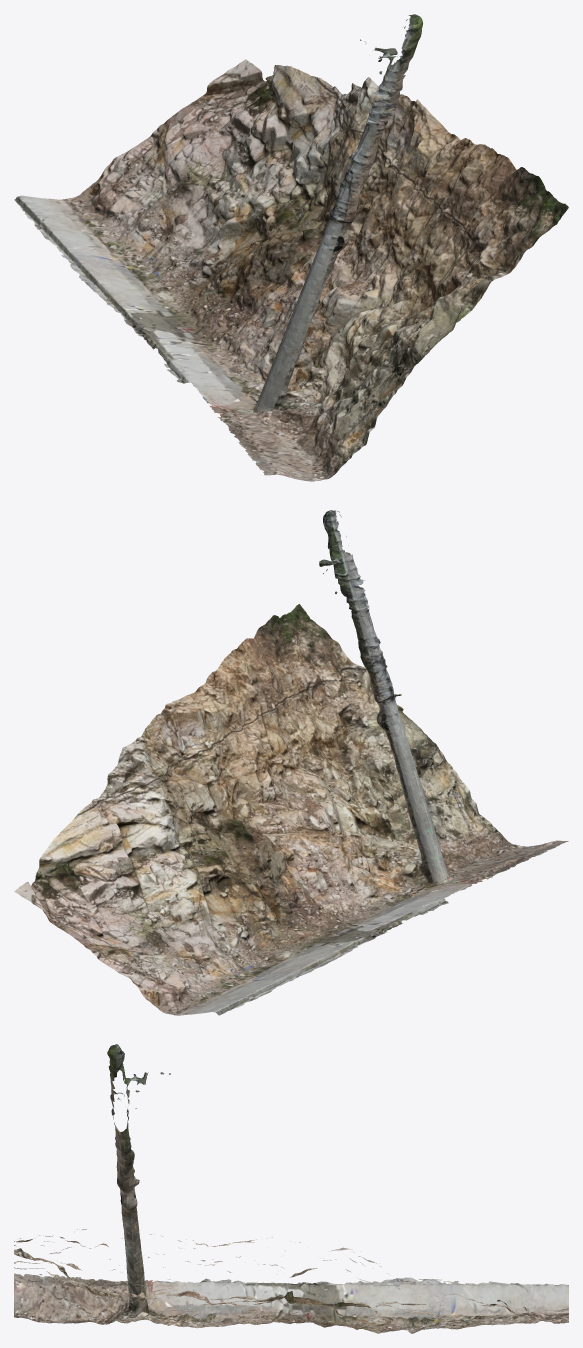
The picture shows the model from 3 angles, top to bottom: view 1: azimuth 30°, elevation 25°; view 2: azimuth 150°, elevation 25°; view 3: azimuth 270°, elevation 25°; orthographic projection. The views are drawn at different scales.
Size of the model in its own units: 5.49 by 6.71 by 10.11.
Materials: 2 (2 with a texture image).
